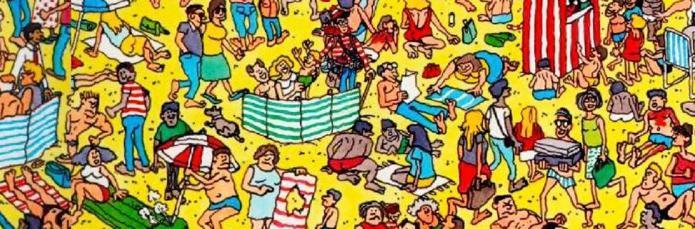waldorotation: (317, 3, 375, 90)
